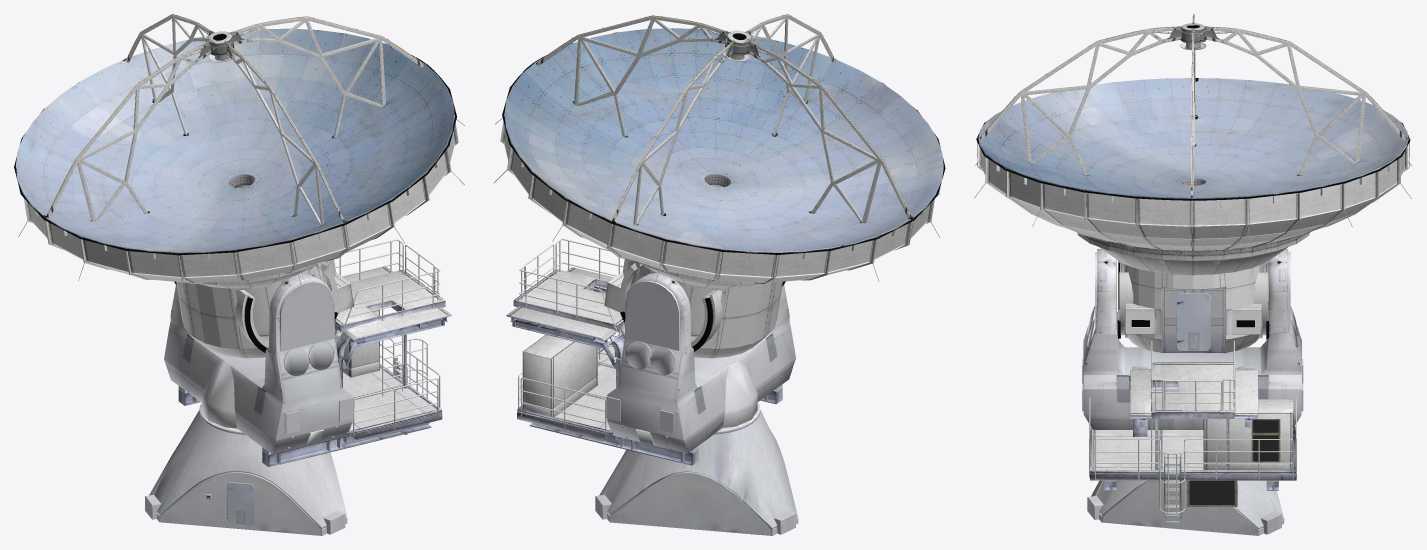
Rendered from alma.glb.
3 views of the same model, side by side, from view 1: azimuth 30°, elevation 25°; view 2: azimuth 150°, elevation 25°; view 3: azimuth 270°, elevation 25° (orthographic). The views are drawn at different scales.
Parts seen in each view (by area): view 1: VertexRSIH_MeshPart2, fork, VertexRSIH_MeshPart1, antenna_base, VertexRSIH_MeshPart0; view 2: VertexRSIH_MeshPart2, fork, VertexRSIH_MeshPart1, antenna_base; view 3: VertexRSIH_MeshPart2, fork, VertexRSIH_MeshPart1, antenna_base, VertexRSIH_MeshPart0.
Boxes of the visible parts, box(x1,y1,x2,y2) form: VertexRSIH_MeshPart2: box(15, 14, 464, 347); fork: box(164, 239, 451, 467); VertexRSIH_MeshPart1: box(14, 14, 458, 358); antenna_base: box(145, 410, 347, 535); VertexRSIH_MeshPart0: box(205, 31, 428, 226); VertexRSIH_MeshPart2: box(493, 14, 943, 346); fork: box(506, 238, 795, 465); VertexRSIH_MeshPart1: box(500, 15, 945, 358); antenna_base: box(595, 410, 798, 535); VertexRSIH_MeshPart2: box(974, 14, 1412, 351); fork: box(1082, 249, 1303, 524); VertexRSIH_MeshPart1: box(976, 23, 1410, 353); antenna_base: box(1087, 480, 1284, 535); VertexRSIH_MeshPart0: box(985, 22, 1209, 225).
Bounding box in the file's own units: 4.9 × 5.7 × 4.9.
35 materials, 21 textured.
